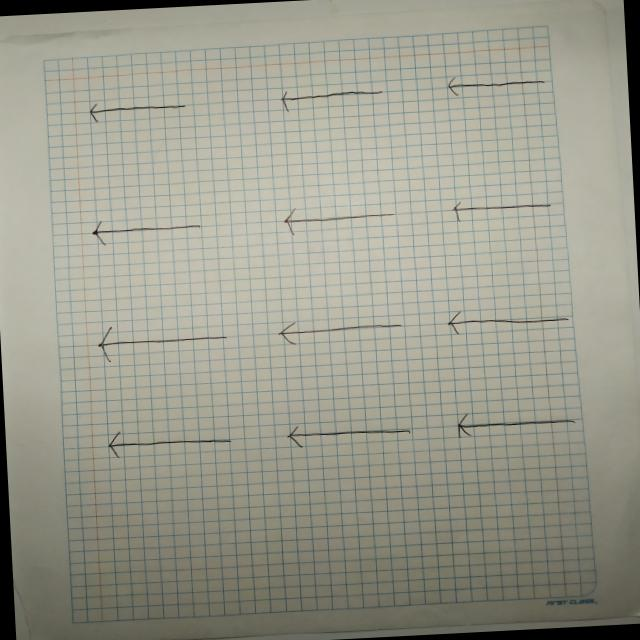arrow_line_left: (78, 318, 243, 370), (270, 195, 418, 245), (94, 424, 252, 464), (436, 301, 582, 341), (262, 314, 414, 349), (273, 418, 428, 451), (82, 213, 216, 250), (439, 192, 558, 232), (442, 406, 582, 440), (261, 82, 398, 114), (78, 94, 200, 128), (432, 69, 550, 103)
